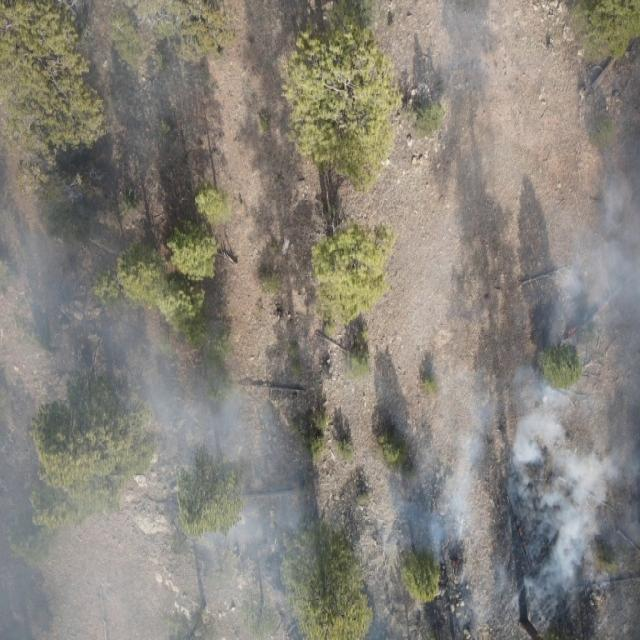fire: (515, 518, 530, 552), (564, 324, 580, 338), (448, 559, 459, 571)
smoke: (0, 356, 640, 640), (0, 0, 235, 162), (0, 164, 171, 355), (532, 149, 640, 356)
